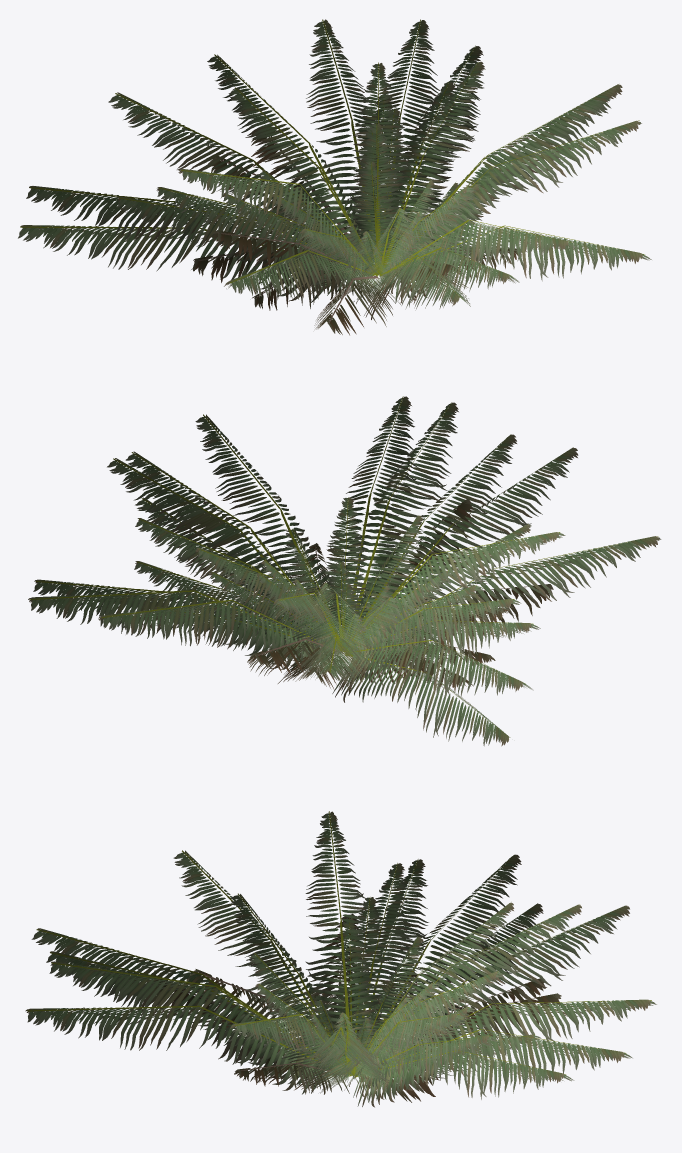
Rendered from Fern 01_LOD4.obj.
3 views of the same model, one above another, from view 1: azimuth 30°, elevation 25°; view 2: azimuth 150°, elevation 25°; view 3: azimuth 270°, elevation 25° (orthographic).
Visible parts, largest first — view 1: fern leaf 01, fern leaf 02; view 2: fern leaf 01, fern leaf 02; view 3: fern leaf 01, fern leaf 02.
Part boxes in pixels (x1,y1,x2,y2): fern leaf 01: (18, 19, 651, 310); fern leaf 02: (193, 131, 526, 335); fern leaf 01: (28, 396, 661, 746); fern leaf 02: (247, 499, 553, 692); fern leaf 01: (25, 811, 656, 1107); fern leaf 02: (151, 913, 561, 1102).
Size of the model in its own units: 112 by 42.38 by 121.
Materials: 3 (3 with a texture image).
